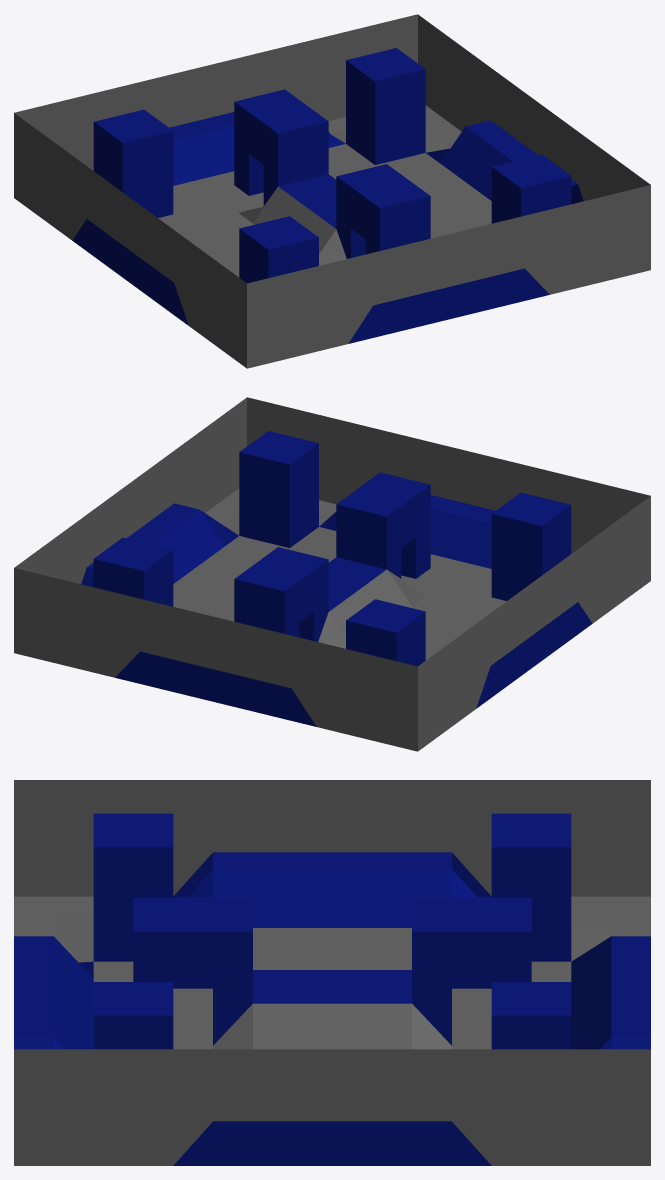
File: map.gltf
3 views of the same model, one above another, from view 1: azimuth 30°, elevation 25°; view 2: azimuth 150°, elevation 25°; view 3: azimuth 270°, elevation 25° (orthographic). The views are drawn at different scales.
Parts seen in each view (by area): view 1: Plane; view 2: Plane; view 3: Plane.
Part boxes in pixels (box(x1,y1,x2,y2)): Plane: box(14, 14, 650, 368); Plane: box(14, 397, 650, 751); Plane: box(14, 780, 650, 1165).
Bounding box in the file's own units: 21.46 × 4.33 × 21.46.
